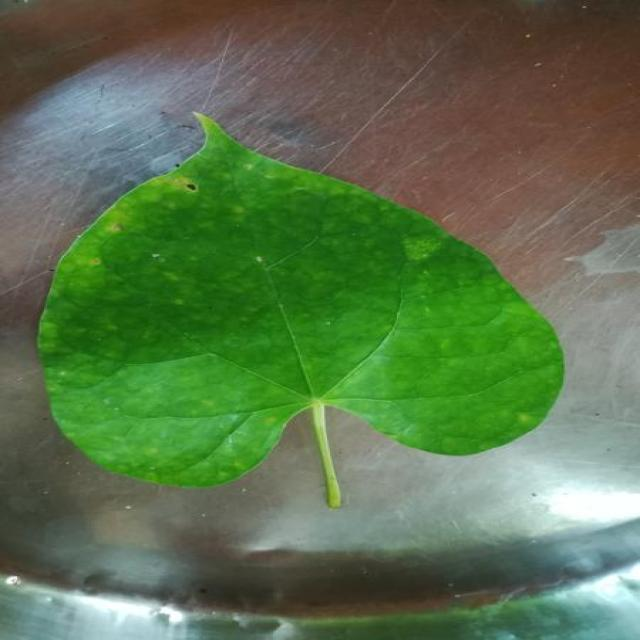Amruthaballi: (38, 115, 563, 507)
defectedAmruthaballi: (49, 116, 237, 314)
